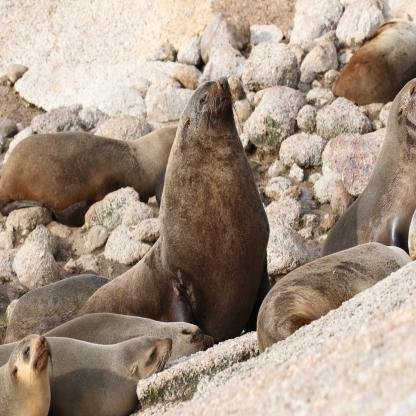face: (196, 74, 236, 128), (20, 334, 51, 375), (141, 336, 173, 373)
